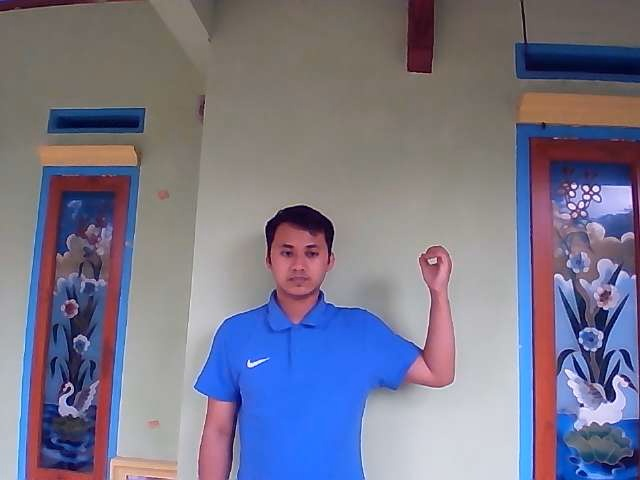O: (417, 244, 454, 292)
